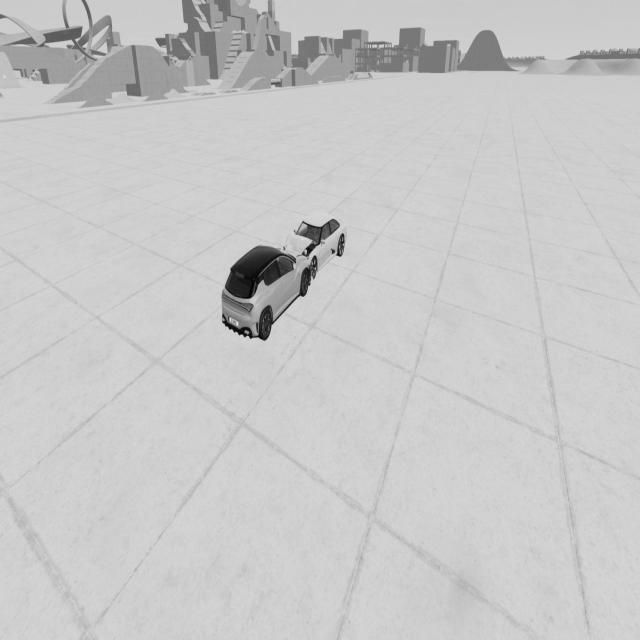accident: (220, 207, 348, 343)
